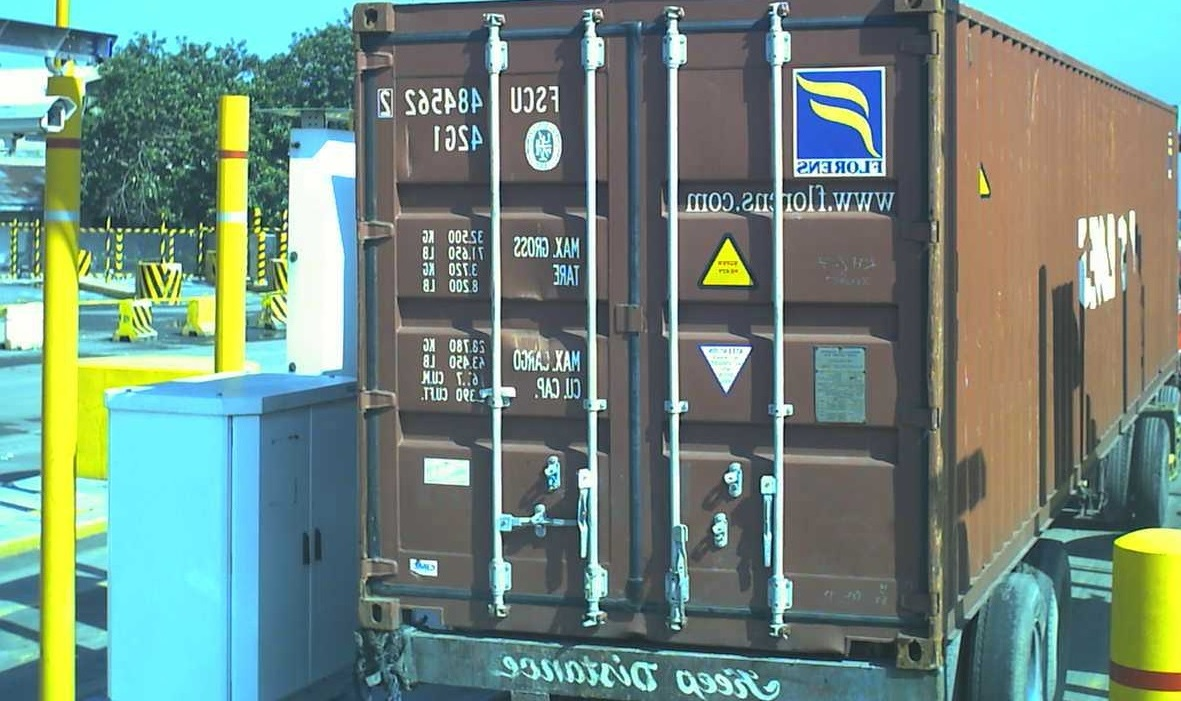container_door: (353, 2, 946, 677)
